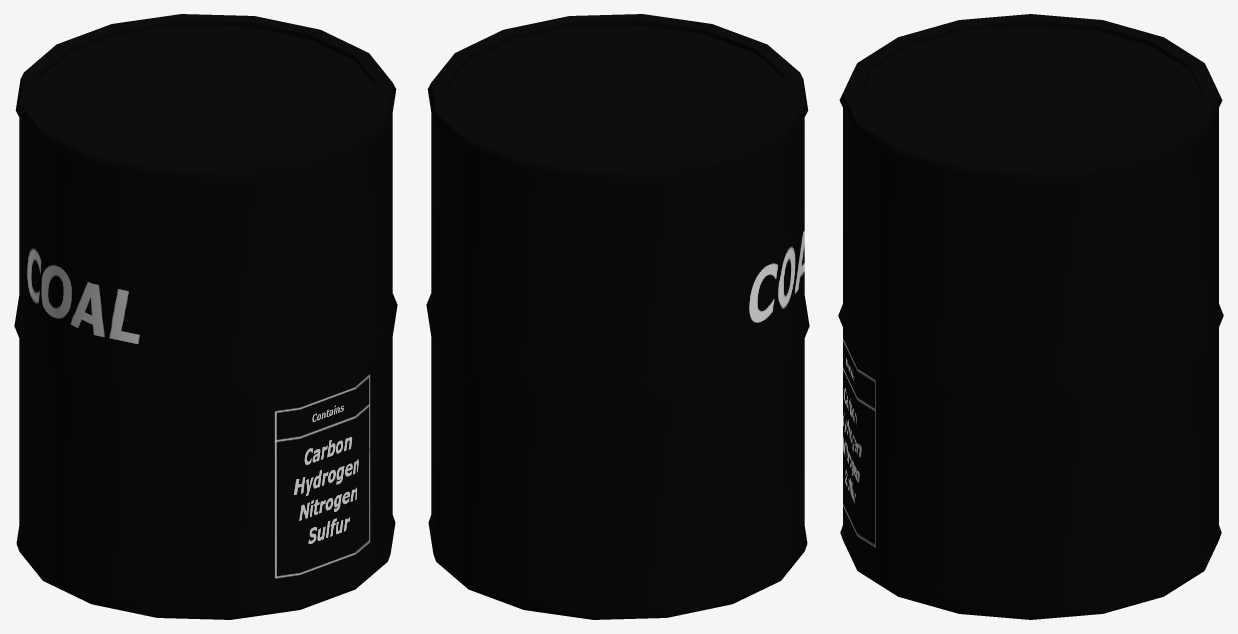
File: Coal drum.fbx
3 renders of one model, left to right at view 1: azimuth 30°, elevation 25°; view 2: azimuth 150°, elevation 25°; view 3: azimuth 270°, elevation 25°, orthographic.
Visible parts, largest first — view 1: Coal_drum; view 2: Coal_drum; view 3: Coal_drum.
Boxes of the visible parts, left/top/right/bottom form: Coal_drum: left=14, top=14, right=397, bottom=619; Coal_drum: left=426, top=14, right=809, bottom=619; Coal_drum: left=838, top=14, right=1223, bottom=619.
Bounding box in the file's own units: 93.3 × 119 × 93.3.
1 material, 1 textured.
